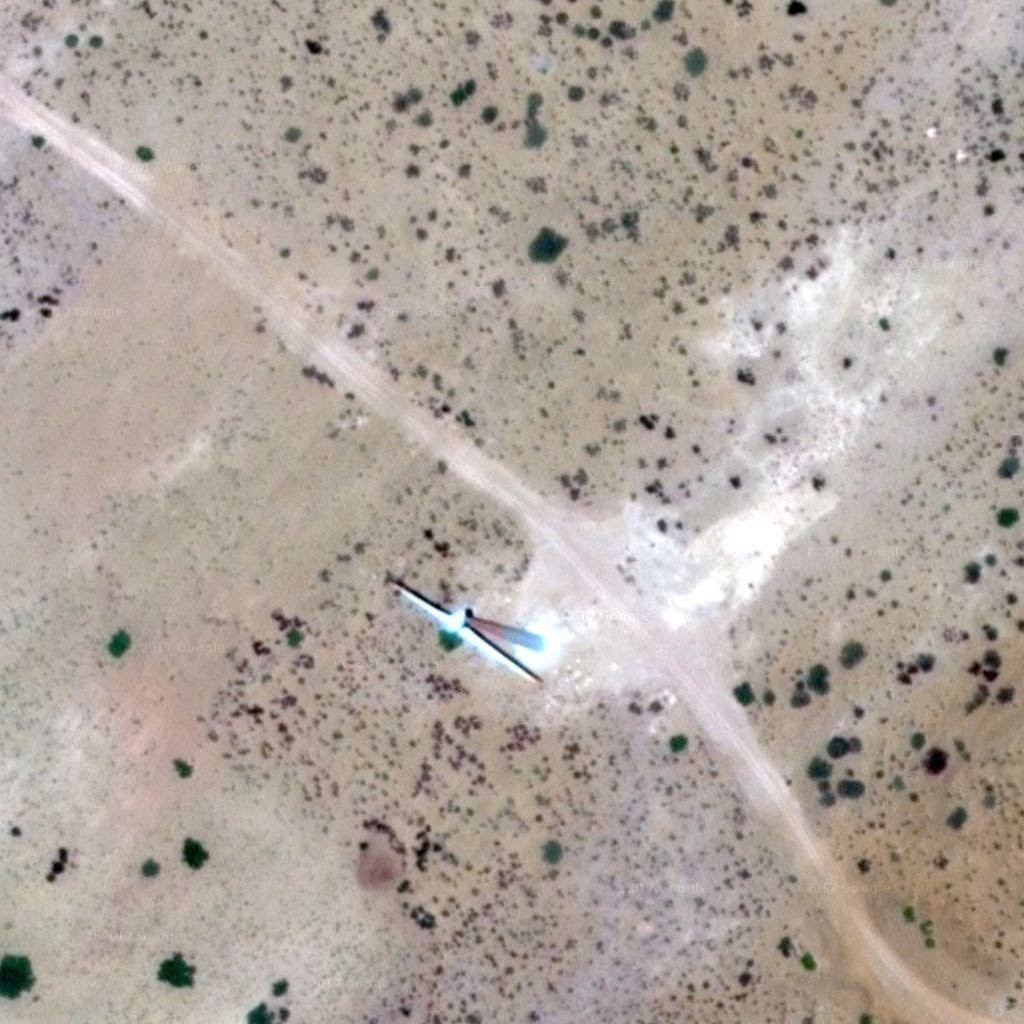Windmill: (356, 553, 569, 686)
